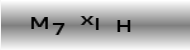7: (50, 21, 66, 36)
H: (115, 18, 133, 34)
M: (29, 16, 51, 30)
l: (94, 17, 101, 31)
x: (79, 15, 94, 26)
